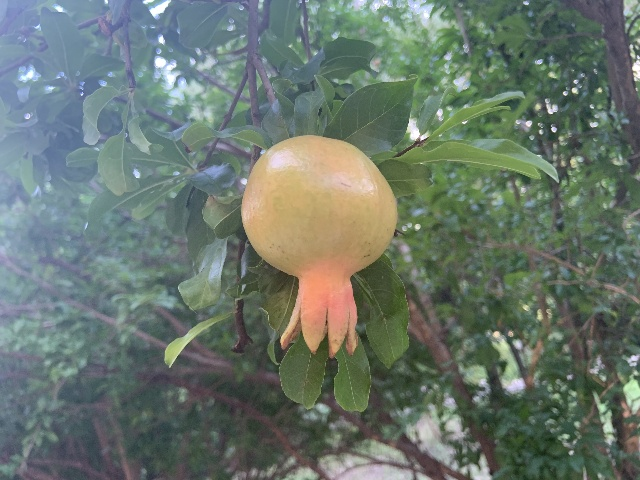mid-growth: (240, 135, 397, 358)
